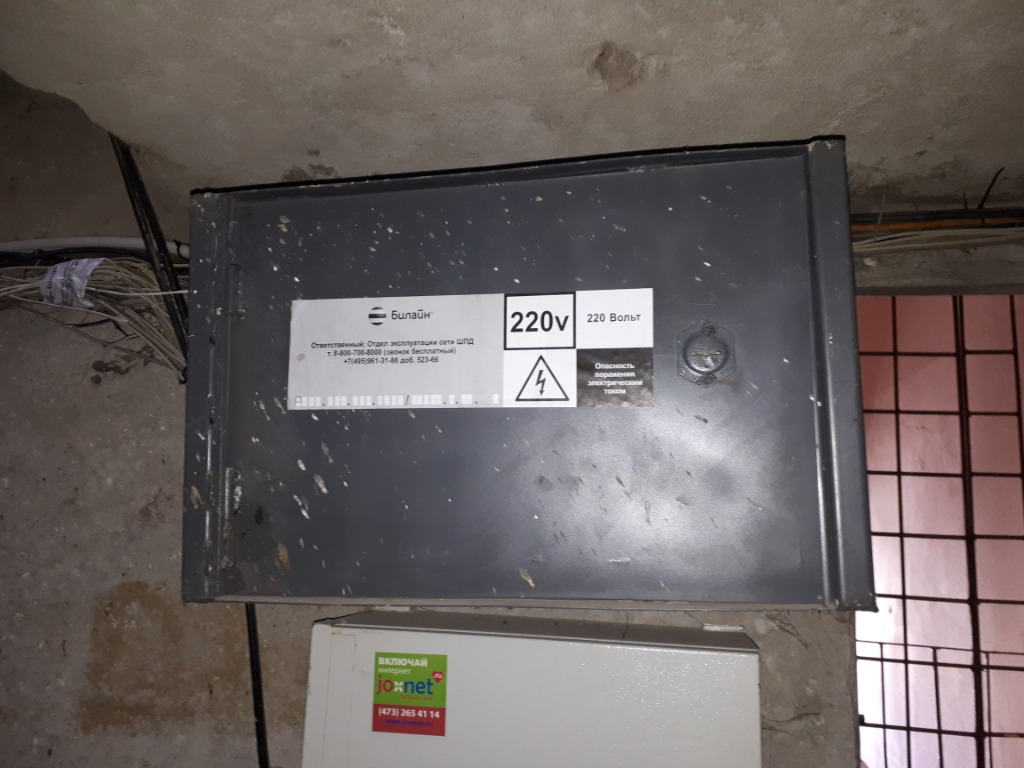e2-6u: (172, 130, 882, 619)
